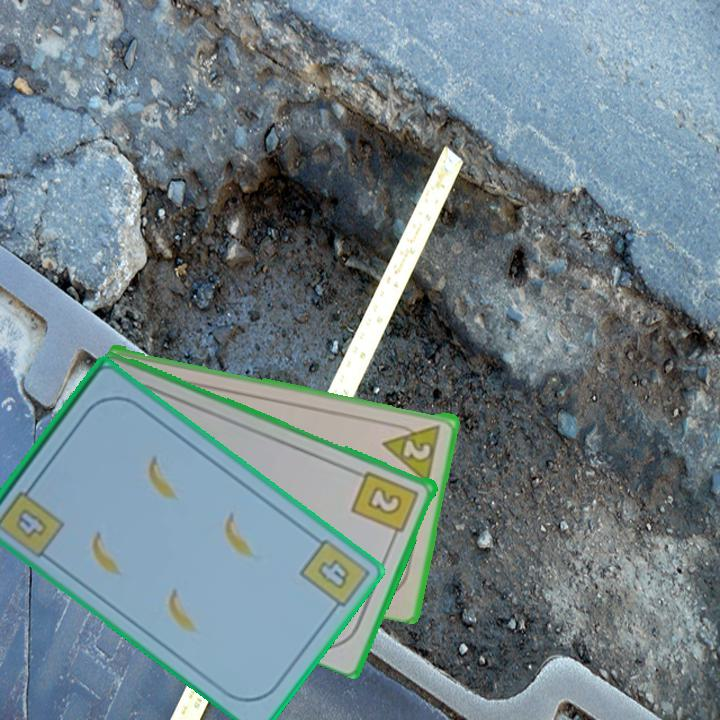2b: (349, 467, 422, 543)
2p: (380, 420, 444, 483)
4b: (295, 534, 372, 617), (12, 504, 51, 541)
